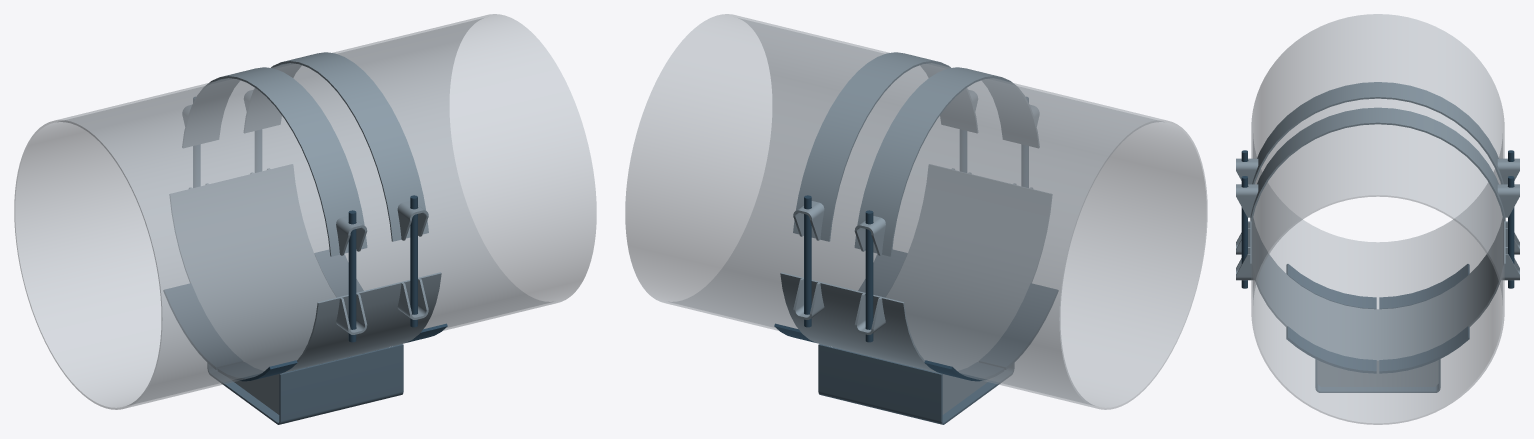
File: TS-671.00.00-29-opora-dn1420-H200.glb
The picture shows the model from 3 angles, left to right: view 1: azimuth 30°, elevation 25°; view 2: azimuth 150°, elevation 25°; view 3: azimuth 270°, elevation 25°; orthographic projection. The views are drawn at different scales.
Visible parts, largest first — view 1: truba, podushka_0, bugel_podushka_-1_0, bugel_podushka_1_0, skoba_1, upor_-1_1, upor_1_1, shpilka_-1_-1, rebro_2, shpilka_1_-1, upor_-1_-1, bugel_ushko_-1_2 (+3 smaller); view 2: truba, podushka_0, bugel_podushka_-1_0, bugel_podushka_1_0, skoba_1, upor_-1_-1, upor_1_-1, shpilka_-1_1, rebro_2, shpilka_1_1, upor_-1_1, bugel_ushko_-1_1 (+3 smaller); view 3: truba, podushka_0, bugel_podushka_1_0, bugel_podushka_-1_0, rebro_6, upor_1_1, upor_1_-1, upor_-1_1, upor_-1_-1, skoba_1, bugel_ushko_1_1, bugel_ushko_1_2 (+6 smaller).
Boxes of the visible parts, bbox=[...] form: truba: bbox=[14, 14, 596, 409]; podushka_0: bbox=[169, 164, 441, 373]; bugel_podushka_-1_0: bbox=[182, 67, 367, 256]; bugel_podushka_1_0: bbox=[244, 52, 428, 241]; skoba_1: bbox=[207, 344, 403, 424]; upor_-1_1: bbox=[163, 283, 242, 369]; upor_1_1: bbox=[314, 250, 363, 296]; shpilka_-1_-1: bbox=[348, 210, 356, 342]; rebro_2: bbox=[229, 373, 279, 414]; shpilka_1_-1: bbox=[410, 195, 417, 327]; upor_-1_-1: bbox=[218, 360, 297, 381]; bugel_ushko_-1_2: bbox=[336, 216, 367, 255]; truba: bbox=[625, 14, 1207, 409]; podushka_0: bbox=[780, 164, 1052, 373]; bugel_podushka_-1_0: bbox=[854, 67, 1039, 256]; bugel_podushka_1_0: bbox=[793, 52, 977, 241]; skoba_1: bbox=[818, 344, 1014, 424]; upor_-1_-1: bbox=[979, 283, 1058, 369]; upor_1_-1: bbox=[858, 250, 907, 296]; shpilka_-1_1: bbox=[865, 210, 873, 342]; rebro_2: bbox=[942, 373, 992, 414]; shpilka_1_1: bbox=[804, 195, 811, 327]; upor_-1_1: bbox=[924, 360, 1003, 381]; bugel_ushko_-1_1: bbox=[854, 216, 885, 255]; truba: bbox=[1251, 14, 1504, 424]; podushka_0: bbox=[1250, 218, 1505, 362]; bugel_podushka_1_0: bbox=[1250, 107, 1505, 221]; bugel_podushka_-1_0: bbox=[1252, 82, 1503, 184]; rebro_6: bbox=[1317, 360, 1438, 386]; upor_1_1: bbox=[1379, 326, 1469, 373]; upor_1_-1: bbox=[1286, 326, 1376, 373]; upor_-1_1: bbox=[1379, 264, 1469, 309]; upor_-1_-1: bbox=[1286, 264, 1376, 309]; skoba_1: bbox=[1315, 359, 1440, 392]; bugel_ushko_1_1: bbox=[1497, 184, 1519, 217]; bugel_ushko_1_2: bbox=[1236, 184, 1258, 217].
Size of the model in its own units: 2400 by 1638 by 1590.
